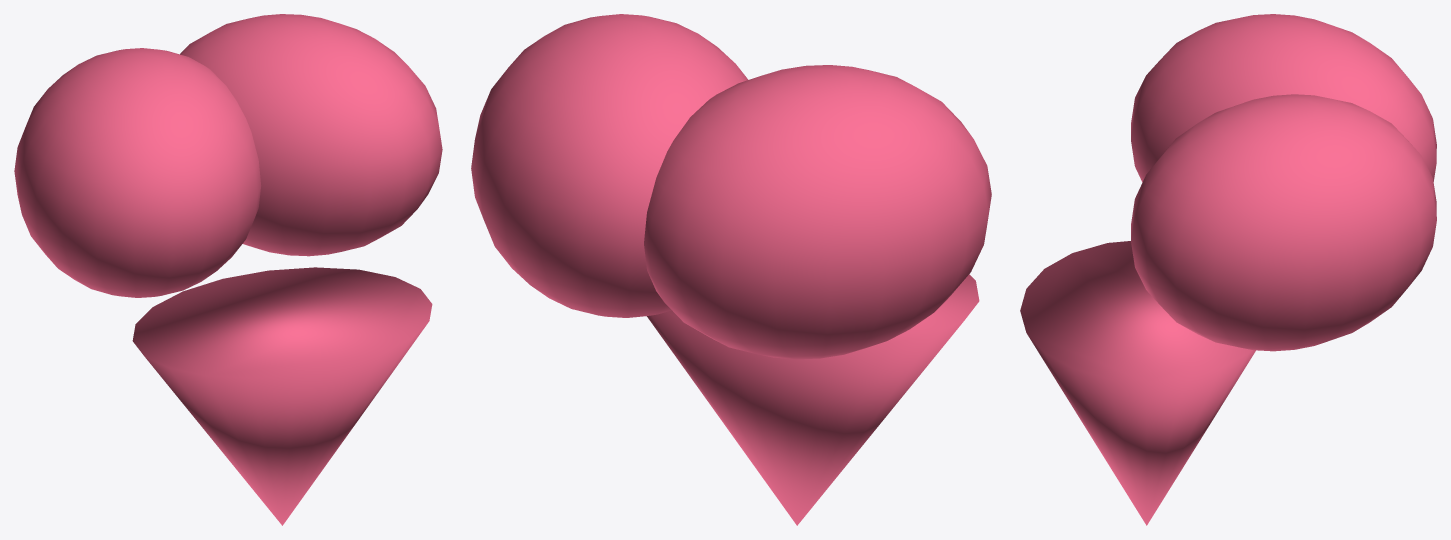
Rendered from charm-puffy-heart.glb.
3 renders of one model, left to right at view 1: azimuth 30°, elevation 25°; view 2: azimuth 150°, elevation 25°; view 3: azimuth 270°, elevation 25°, orthographic. The views are drawn at different scales.
Visible parts, largest first — view 1: Sphere, Cone, Sphere.001; view 2: Sphere, Sphere.001, Cone; view 3: Sphere.001, Cone, Sphere.
Boxes of the visible parts, left/top/right/bottom form: Sphere: left=14, top=48, right=261, bottom=297; Cone: left=132, top=267, right=432, bottom=525; Sphere.001: left=180, top=14, right=442, bottom=256; Sphere: left=644, top=65, right=991, bottom=359; Sphere.001: left=471, top=14, right=748, bottom=317; Cone: left=647, top=274, right=979, bottom=525; Sphere.001: left=1131, top=94, right=1436, bottom=351; Cone: left=1020, top=241, right=1255, bottom=525; Sphere: left=1131, top=14, right=1436, bottom=182.
Bounding box in the file's own units: 0.00898 × 0.00956 × 0.0079.
